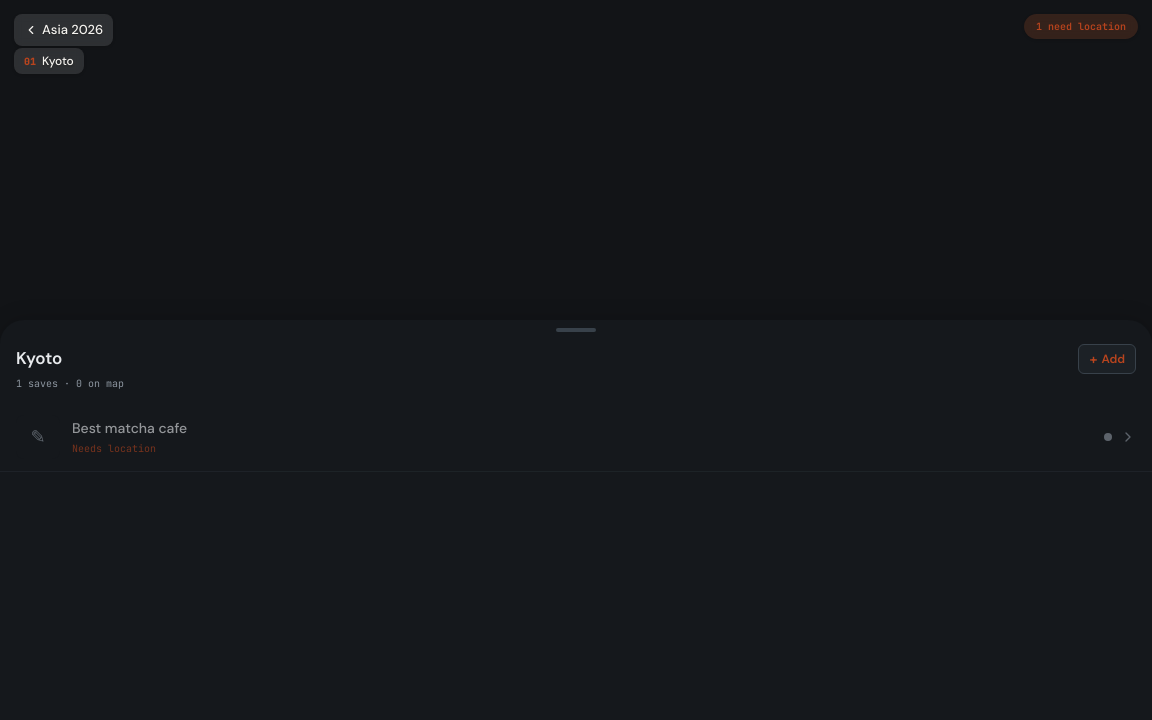
it: Quick picker flow — destination page integration › dismissing the picker closes it without changes
Open picker
Step 1. Click the button with test id "sheet-item-body-needs-loc-1" → (38,437), box x1=0 y1=403 x2=1116 y2=471
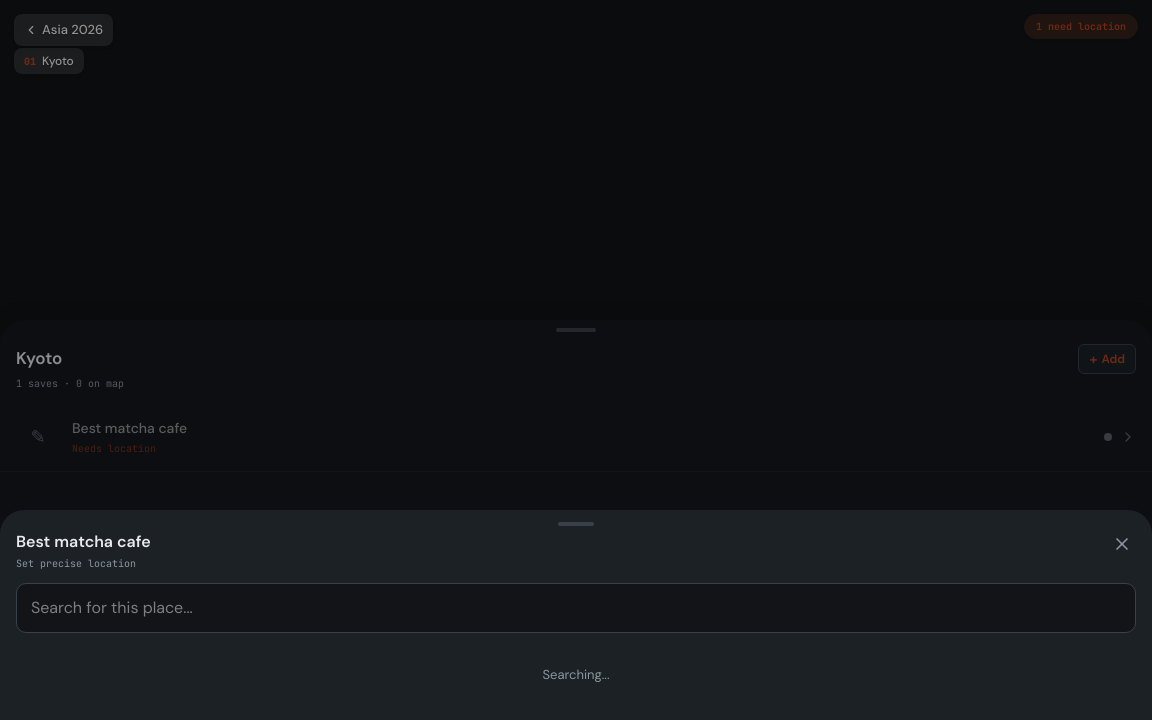
Result: the element with test id "quick-location-picker" is shown at x1=0 y1=510 x2=1151 y2=719
Close it
Step 2. Click the button with test id "quick-picker-close" → (1122,544), box x1=1108 y1=530 x2=1136 y2=558
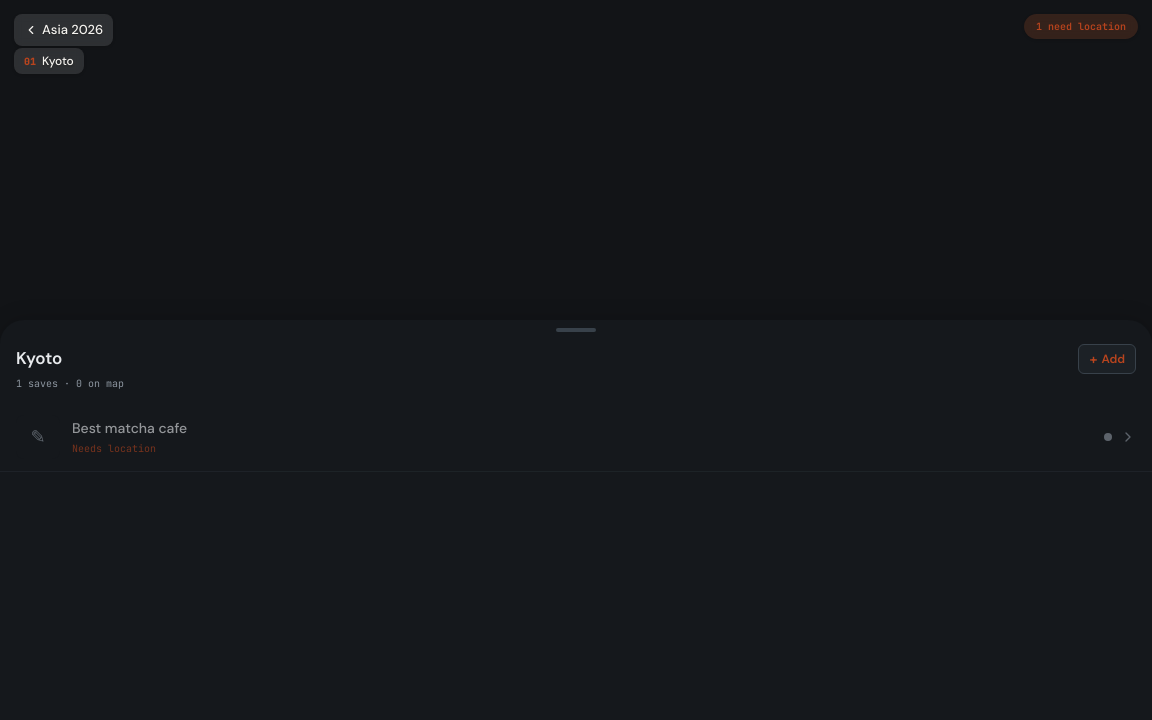
Result: the element with test id "quick-location-picker" is gone
